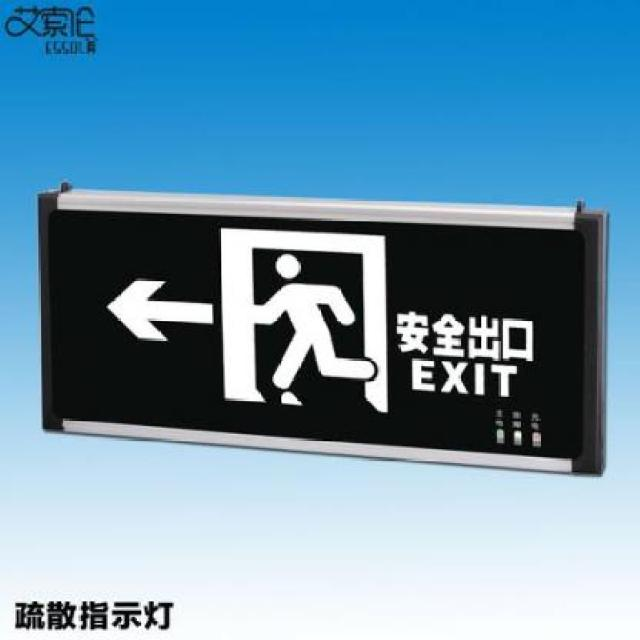exit_sign: (34, 194, 588, 475)
